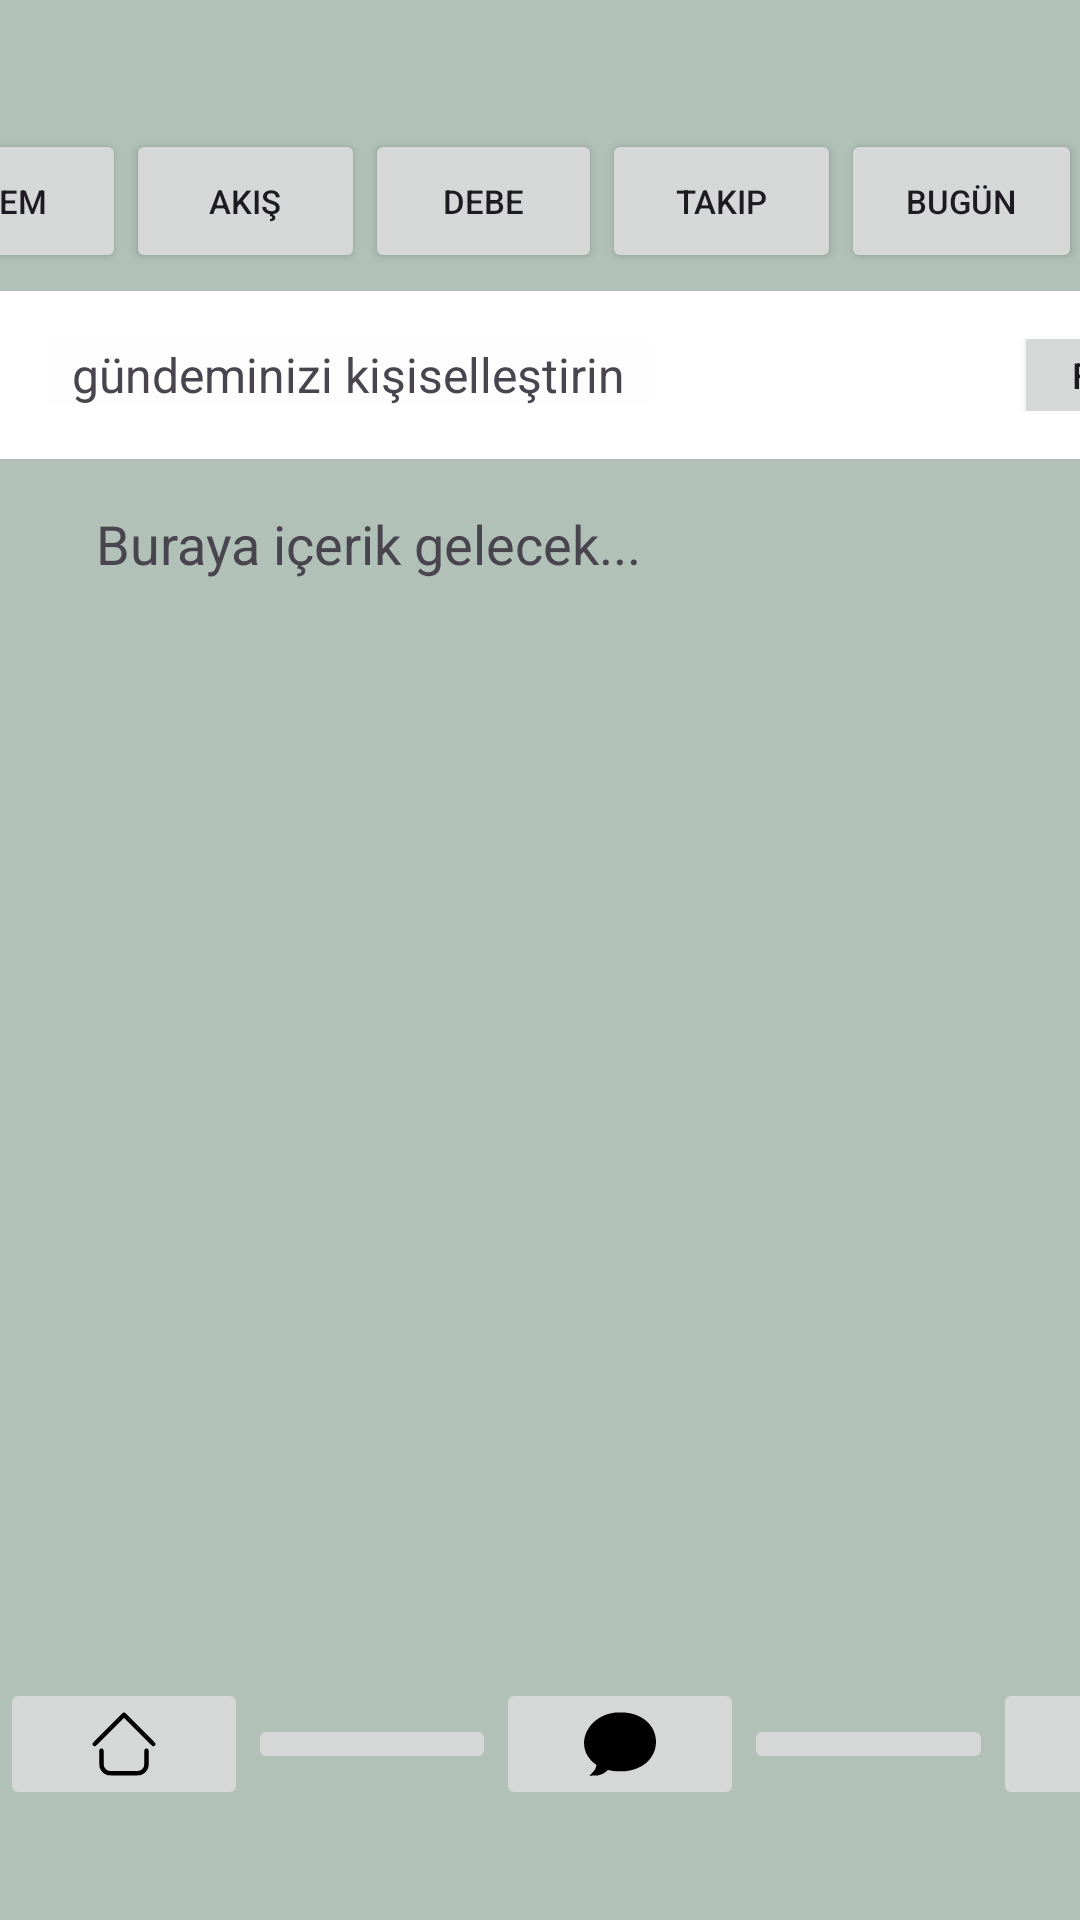

Where to tap for icons on this 1080px×1920px app screen, as point (x, y):
Ana Sayfa: point (124, 1744)
Mesajlar: point (620, 1744)
